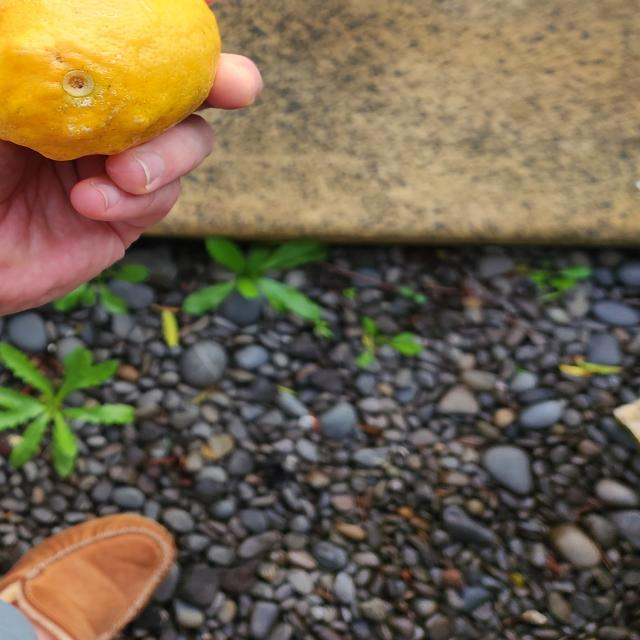lemon: (0, 0, 227, 164)
